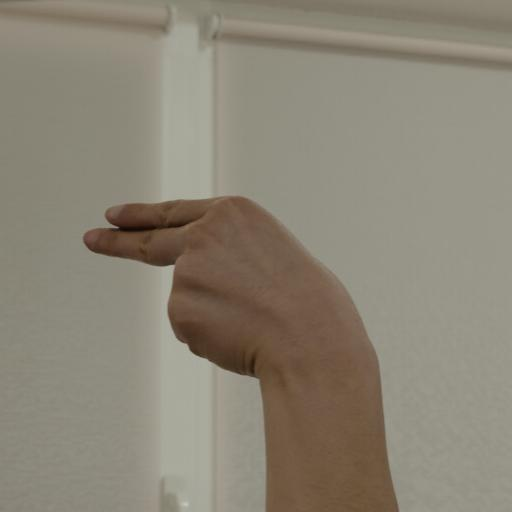H: (76, 197, 382, 385)
